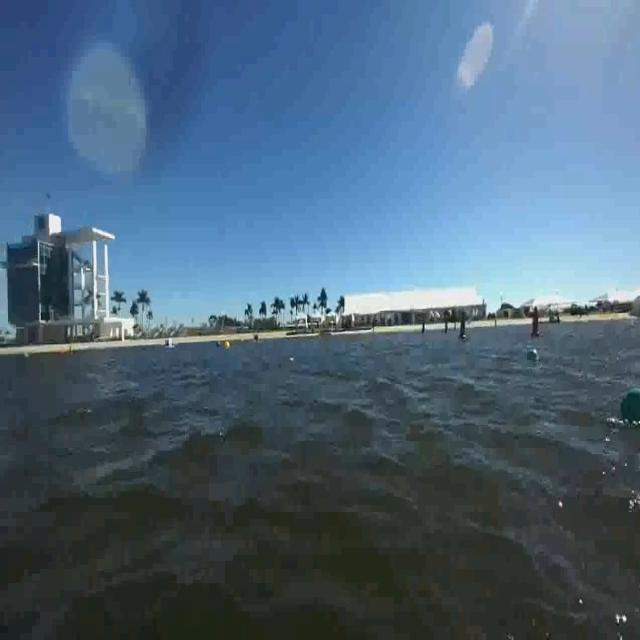green-buoy: (620, 389, 640, 427)
